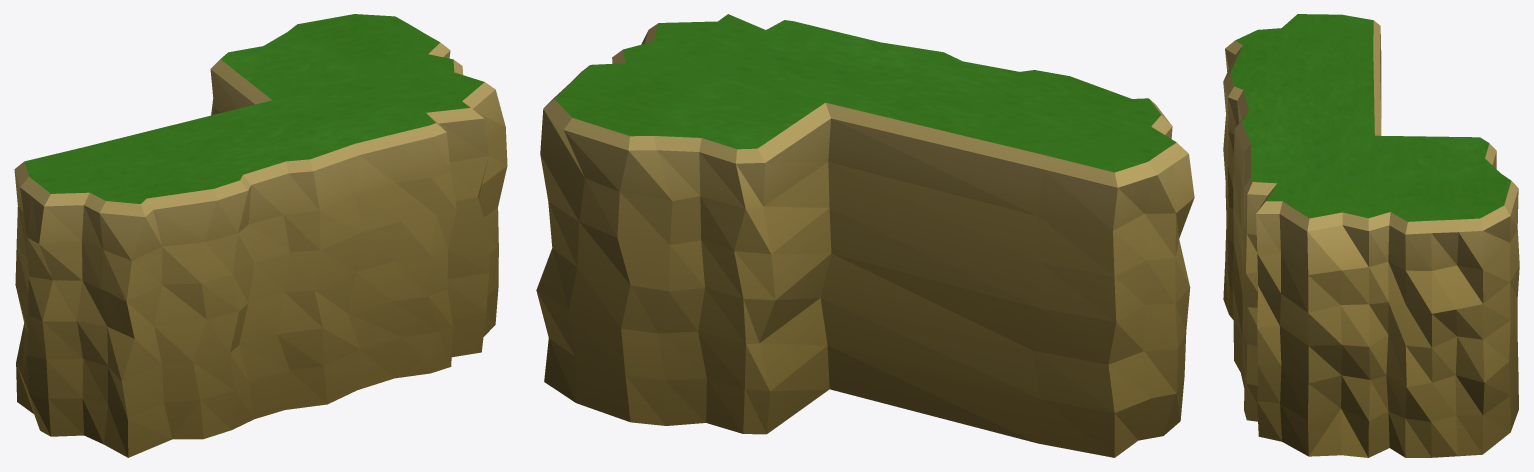
File: LShapeCliff_02.FBX
The picture shows the model from 3 angles, left to right: view 1: azimuth 30°, elevation 25°; view 2: azimuth 150°, elevation 25°; view 3: azimuth 270°, elevation 25°; orthographic projection. The views are drawn at different scales.
Parts seen in each view (by area): view 1: Plane007; view 2: Plane007; view 3: Plane007.
Part boxes in pixels (x1,y1,x2,y2): Plane007: (14, 14, 507, 457); Plane007: (536, 14, 1194, 457); Plane007: (1223, 14, 1519, 457).
Bounding box in the file's own units: 568 × 281 × 322.
